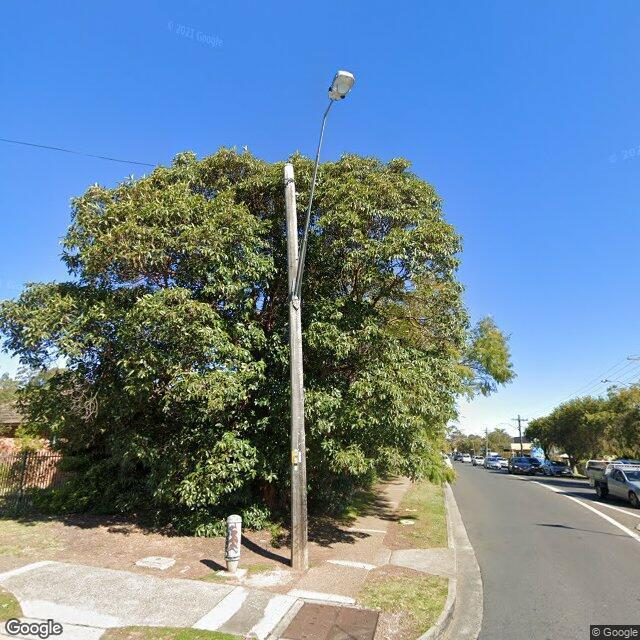crossarm: (511, 418, 528, 421)
streetlight: (290, 69, 357, 301), (600, 379, 632, 388), (500, 422, 520, 432)
timber-pole: (283, 164, 308, 572), (518, 414, 523, 456), (486, 427, 488, 457)
